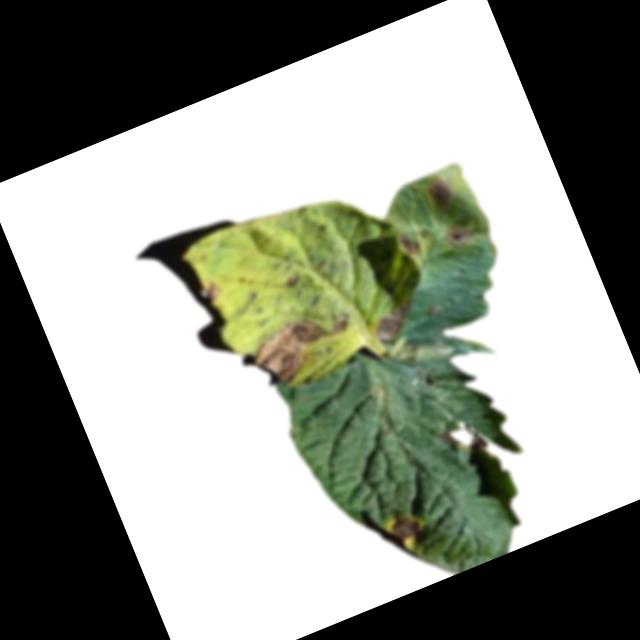Early_blight: (244, 297, 365, 391), (366, 297, 423, 346), (436, 415, 490, 463), (387, 507, 429, 544), (423, 174, 458, 212), (441, 218, 475, 250), (396, 223, 423, 257), (202, 278, 225, 302), (282, 269, 302, 288)
